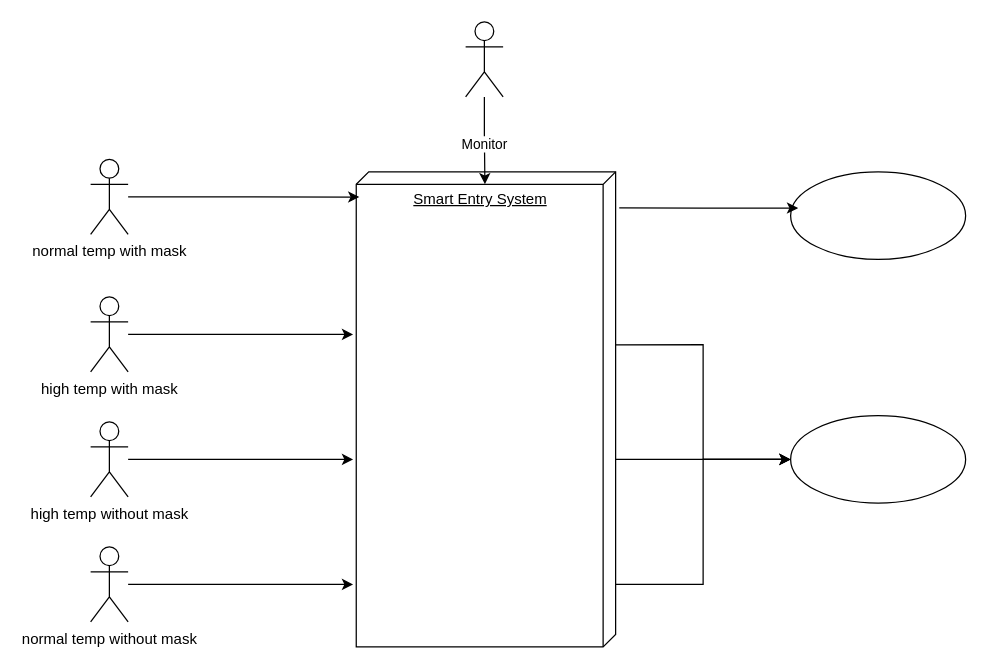
The diagram is 988 pixels wide and 670 high, and some of its shapes have lost their labels. Each missing label, with the centre of its shape:
"Admin" belongs at point 483,59.
"allow pass" belongs at point 877,215.
"not allow" belongs at point 877,458.
